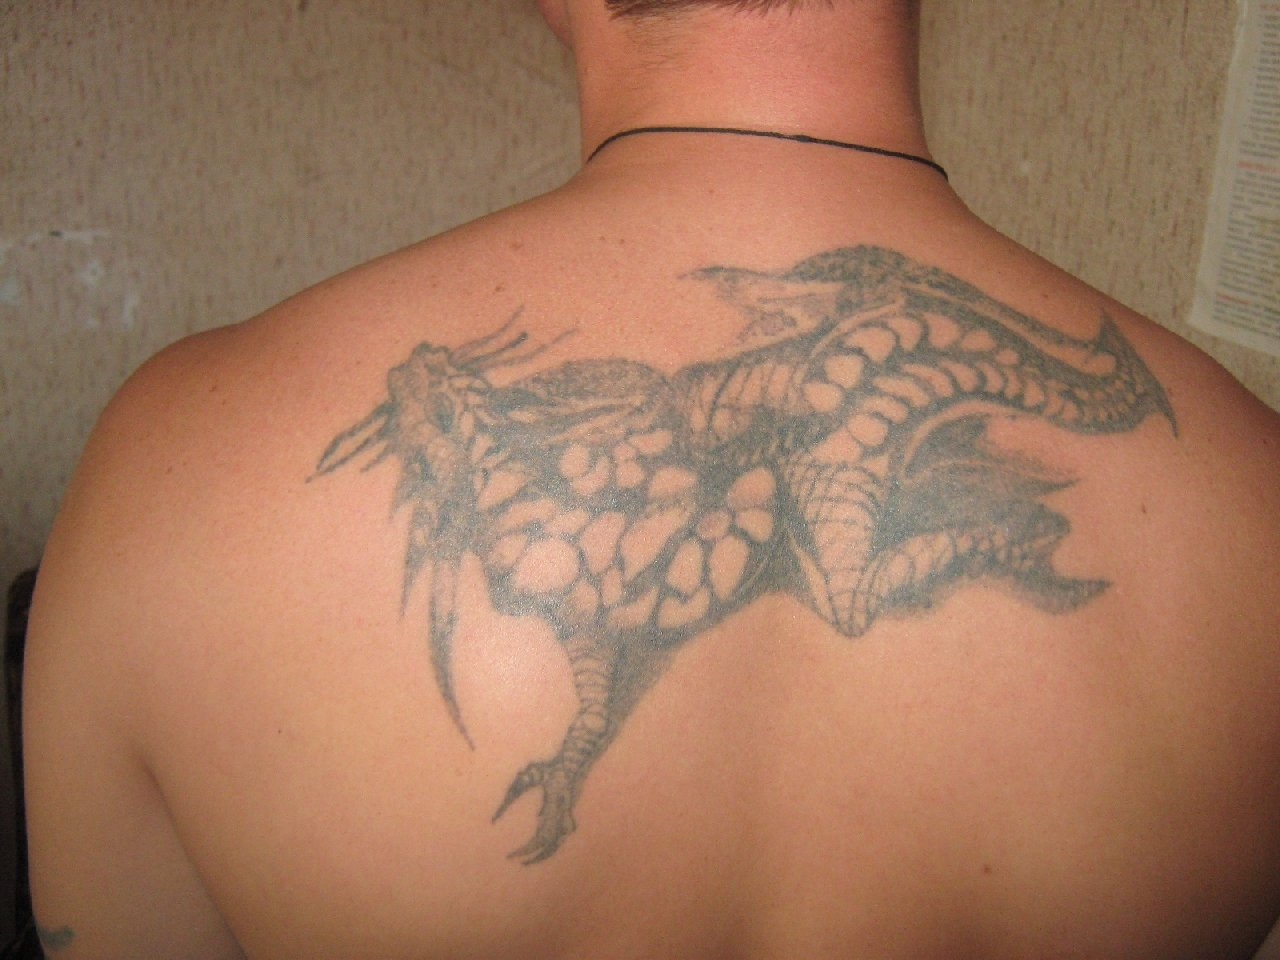tatu3_bukva: (288, 220, 1220, 880)
